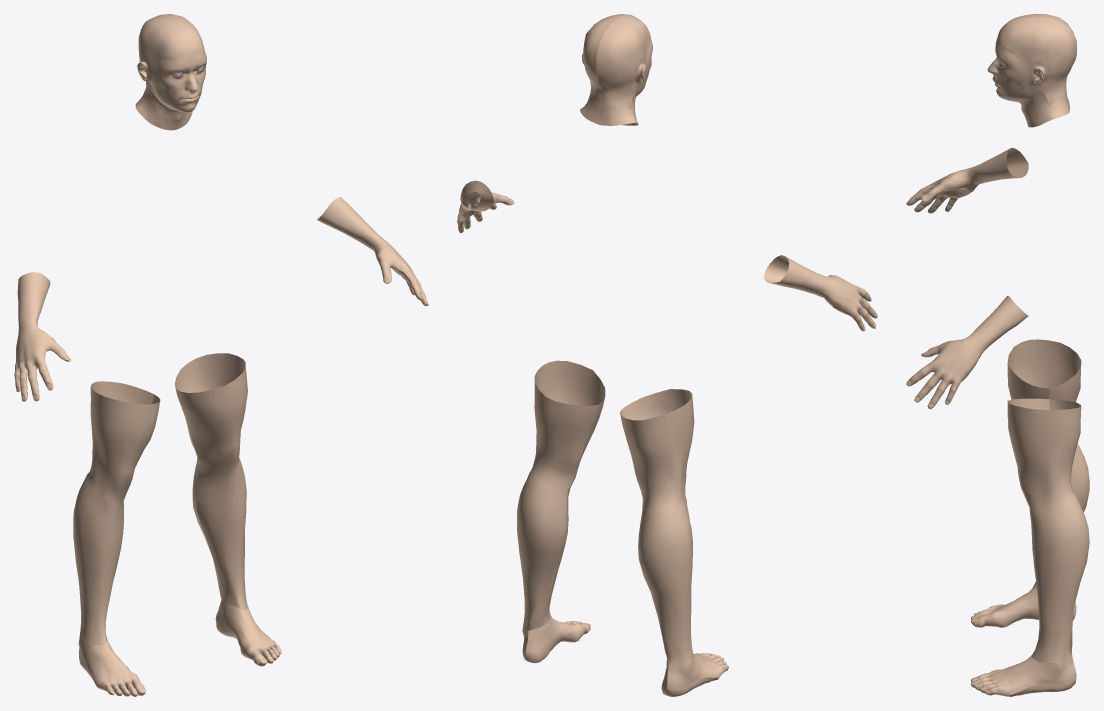
Rendered from body_formal_suit.glb.
3 views of the same model, side by side, from view 1: azimuth 30°, elevation 25°; view 2: azimuth 150°, elevation 25°; view 3: azimuth 270°, elevation 25° (orthographic).
Parts seen in each view (by area): view 1: Body; view 2: Body; view 3: Body.
Boxes of the visible parts, left/top/right/bottom form: Body: left=14, top=14, right=428, bottom=696; Body: left=457, top=14, right=877, bottom=696; Body: left=906, top=14, right=1089, bottom=696.
Size of the model in its own units: 1.15 by 1.74 by 0.4539.
